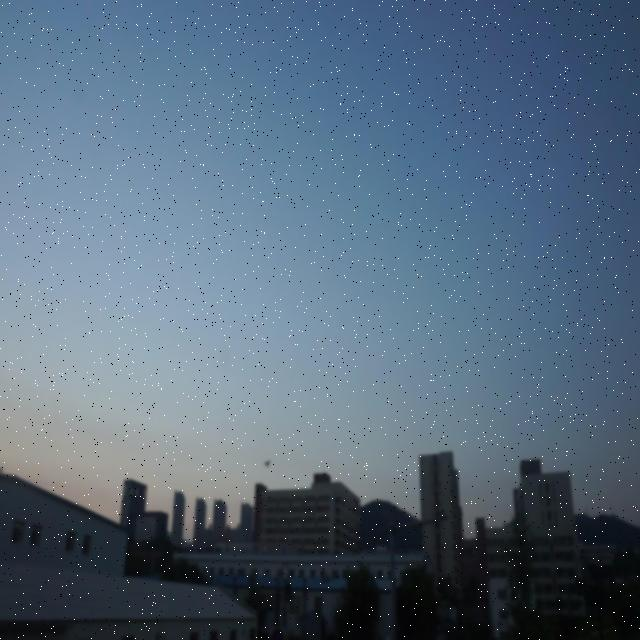UAV: (262, 460, 271, 468)
